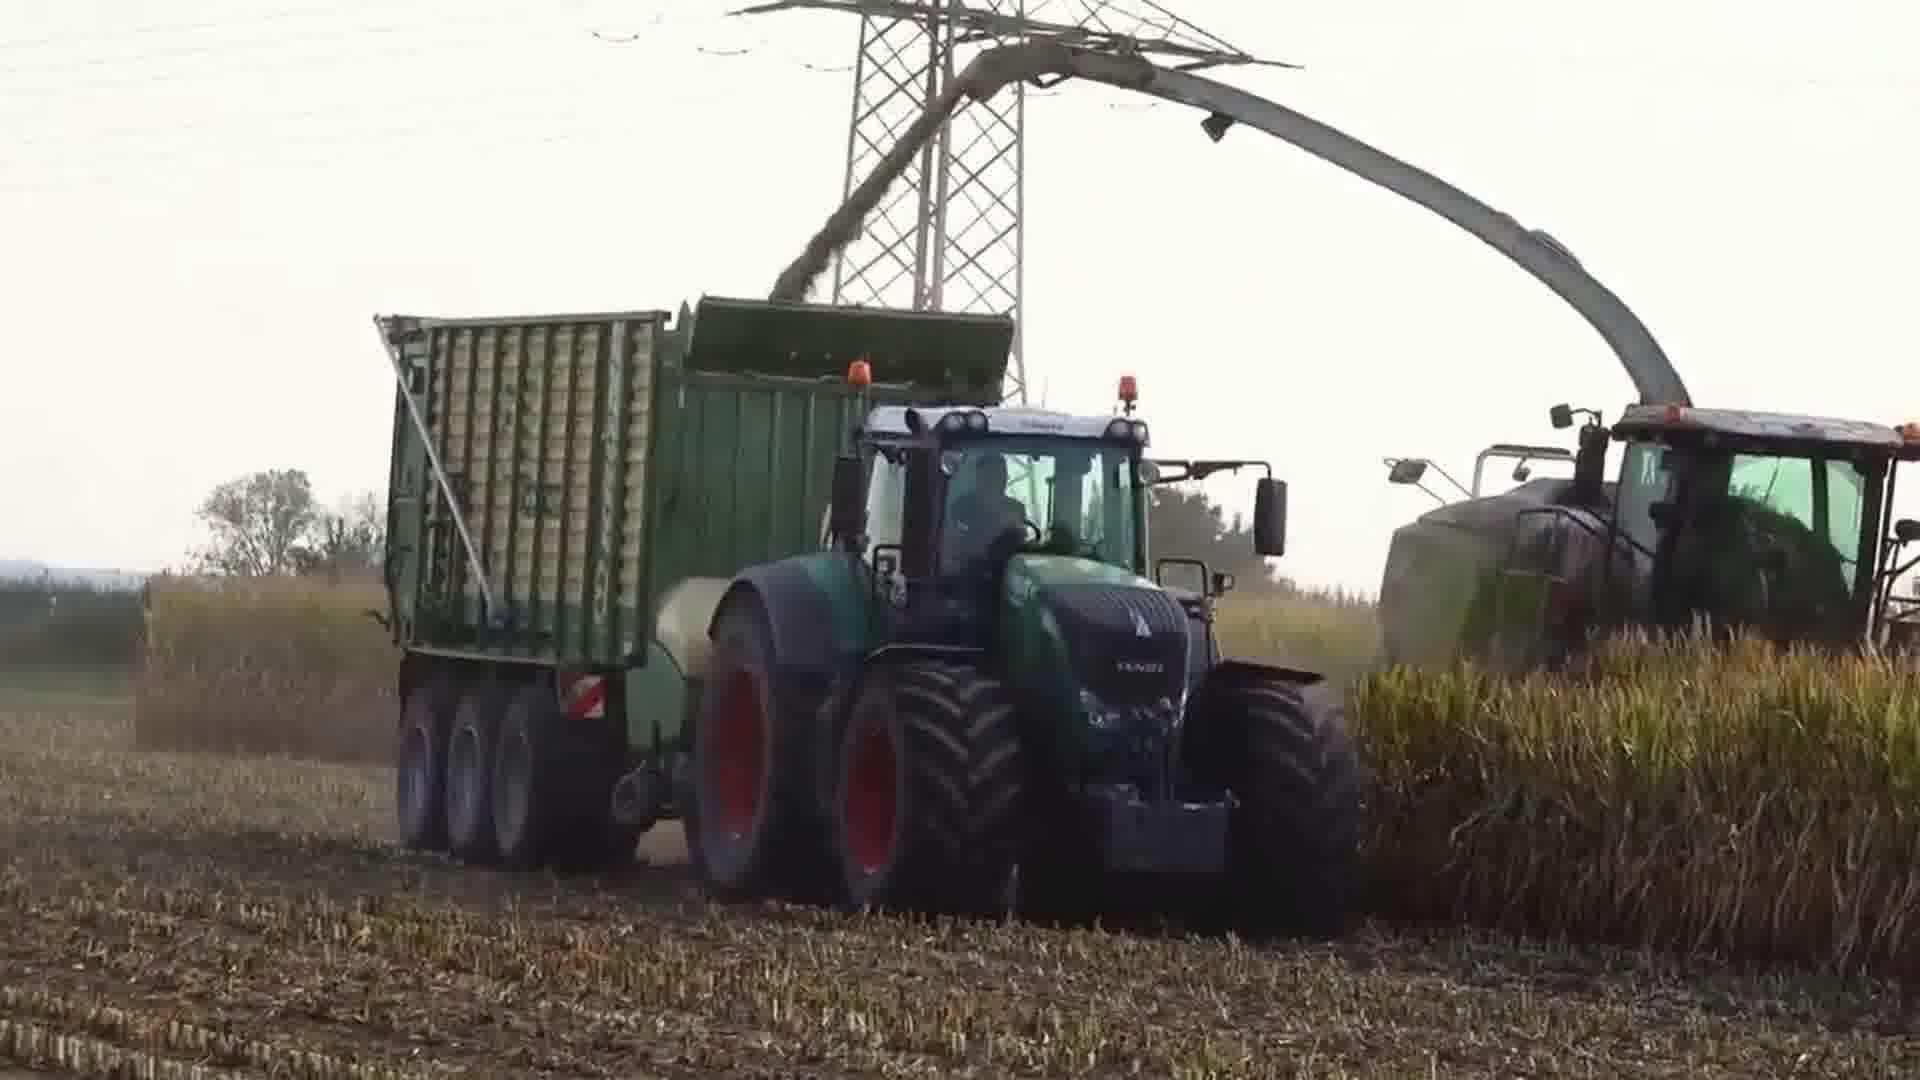combine harvester: (955, 31, 1920, 718)
tractor: (689, 351, 1373, 959)
trailer: (367, 287, 1021, 879)
